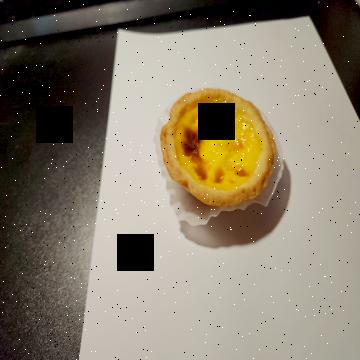EggTart: (158, 86, 276, 208)
